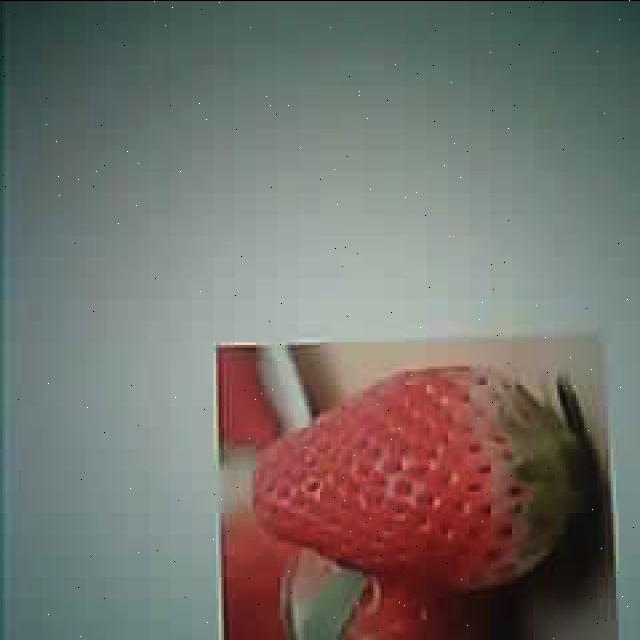strawberry: (255, 362, 572, 585)
